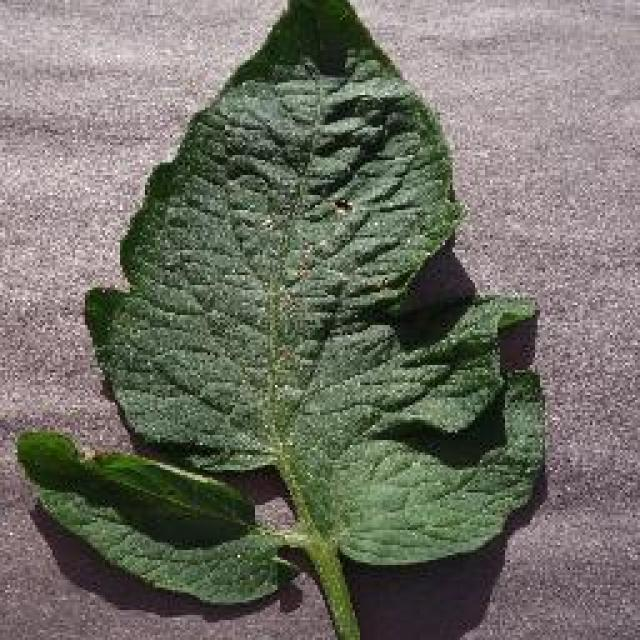Tomato Septoria spot leaf: (76, 0, 544, 570), (12, 426, 302, 609)
